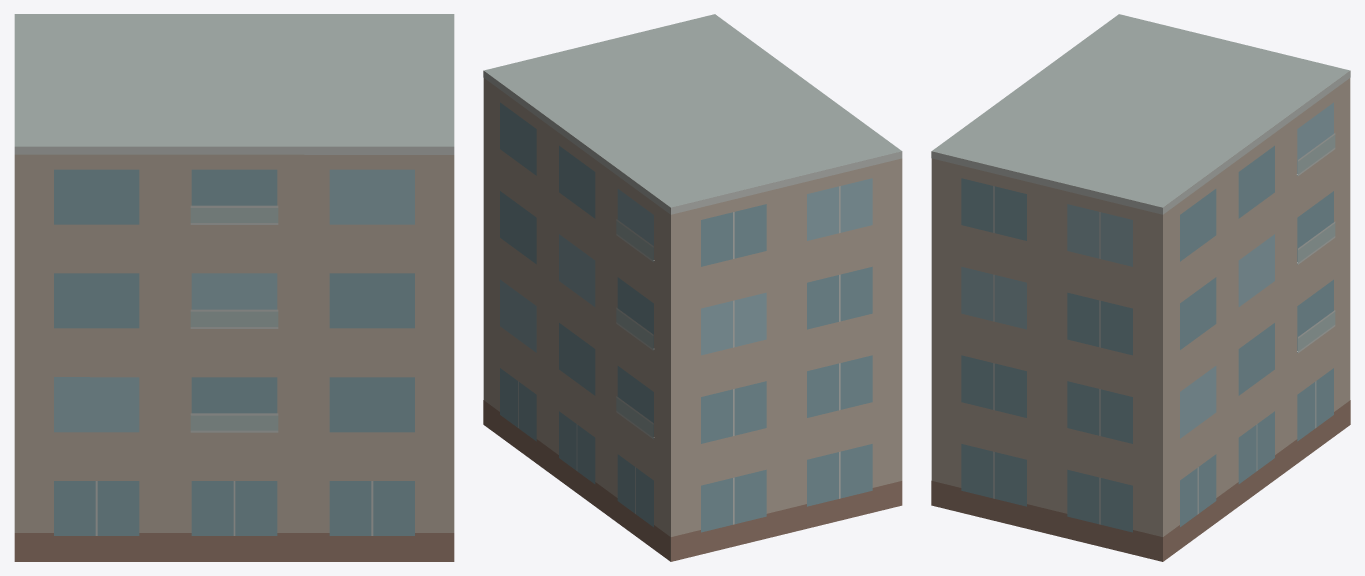
File: residential-cae274c2-7caa-42b3-b8c3-986b97423c2c.glb
3 views of the same model, side by side, from view 1: azimuth 30°, elevation 25°; view 2: azimuth 150°, elevation 25°; view 3: azimuth 270°, elevation 25° (orthographic). The views are drawn at different scales.
Visible parts, largest first — view 1: residential-cae274c2-7caa-42b3-b8c3-986b97423c2c.tmp; view 2: residential-cae274c2-7caa-42b3-b8c3-986b97423c2c.tmp; view 3: residential-cae274c2-7caa-42b3-b8c3-986b97423c2c.tmp.
Part boxes in pixels (bbox=[...]): residential-cae274c2-7caa-42b3-b8c3-986b97423c2c.tmp: bbox=[14, 14, 454, 561]; residential-cae274c2-7caa-42b3-b8c3-986b97423c2c.tmp: bbox=[483, 14, 902, 561]; residential-cae274c2-7caa-42b3-b8c3-986b97423c2c.tmp: bbox=[931, 14, 1350, 561].
Size of the model in its own units: 14.32 by 12.2 by 13.09.
